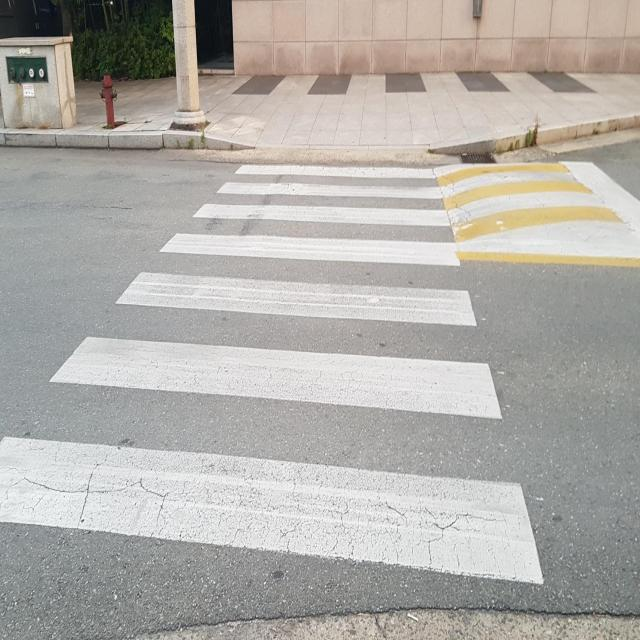횡단보도: (0, 164, 546, 589)
